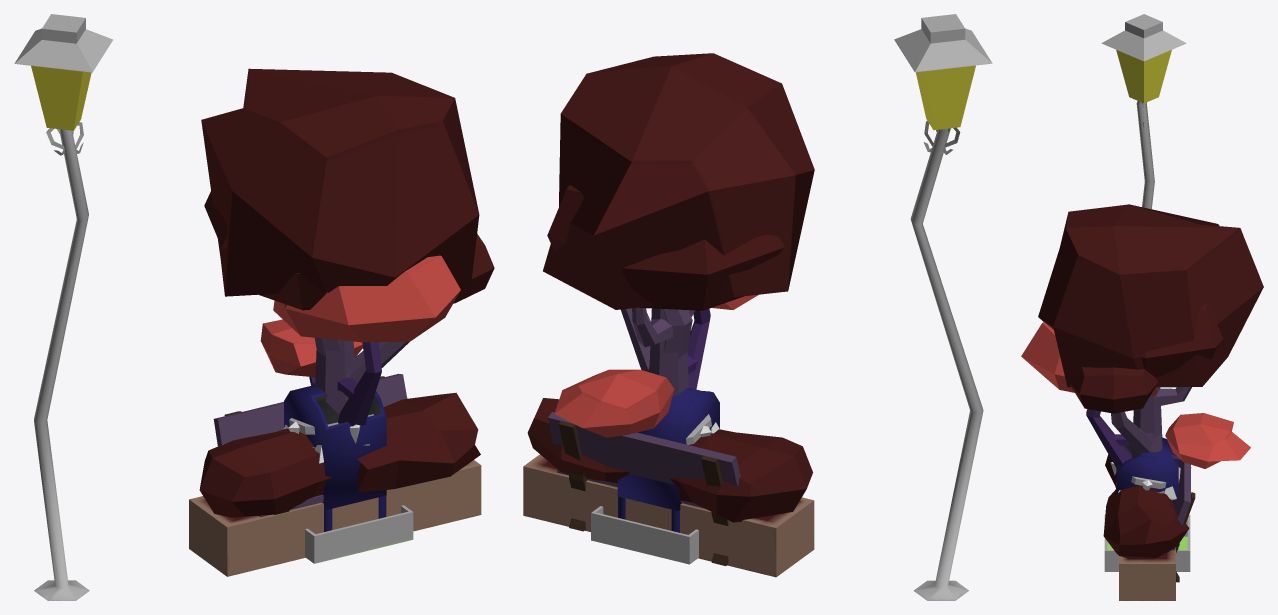
File: Assets rua.fbx
The picture shows the model from 3 angles, left to right: view 1: azimuth 30°, elevation 25°; view 2: azimuth 150°, elevation 25°; view 3: azimuth 270°, elevation 25°; orthographic projection. The views are drawn at different scales.
Visible parts, largest first — view 1: Árvore 3, Prantinha 2, Poste, Árvore 2, Árvore, Caixa de correio (genérica), Banquinho, lixeira; view 2: Árvore 3, Prantinha 2, Poste, Árvore, Árvore 2, Banquinho, Caixa de correio (genérica); view 3: Árvore 3, Árvore, Prantinha 2, Árvore 2, Poste, Caixa de correio (genérica), Banquinho, lixeira.
Boxes of the visible parts, x1,y1,x2,y2 form: Árvore 3: [201, 68, 479, 414]; Prantinha 2: [189, 392, 481, 576]; Poste: [14, 14, 112, 600]; Árvore 2: [260, 255, 460, 513]; Árvore: [204, 191, 494, 563]; Caixa de correio (genérica): [284, 385, 386, 531]; Banquinho: [213, 373, 407, 517]; lixeira: [283, 414, 373, 463]; Árvore 3: [543, 53, 814, 396]; Prantinha 2: [523, 398, 814, 577]; Poste: [894, 14, 992, 600]; Árvore: [547, 185, 784, 564]; Árvore 2: [554, 294, 758, 513]; Banquinho: [548, 412, 740, 565]; Caixa de correio (genérica): [617, 388, 719, 532]; Árvore 3: [1038, 204, 1263, 457]; Árvore: [1070, 302, 1222, 571]; Prantinha 2: [1103, 454, 1191, 600]; Árvore 2: [1021, 322, 1250, 549]; Poste: [1101, 14, 1186, 209]; Caixa de correio (genérica): [1116, 437, 1178, 549]; Banquinho: [1171, 462, 1195, 582]; lixeira: [1110, 462, 1180, 500].
Size of the model in its own units: 505 by 609 by 310.
